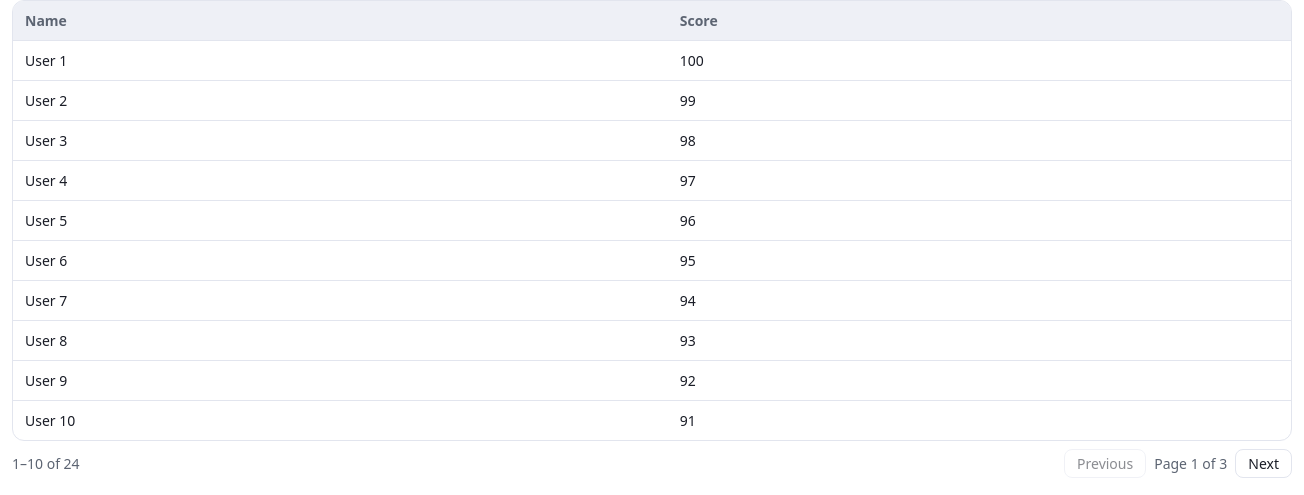
Test: DataGrid › moves between pages
Expected: the button with aria-label "Previous page" is disabled, top-left (1064, 449), bottom-right (1146, 478)
Click the button with aria-label "Next page" at [1264, 464], box top-left (1235, 449), bottom-right (1292, 478)
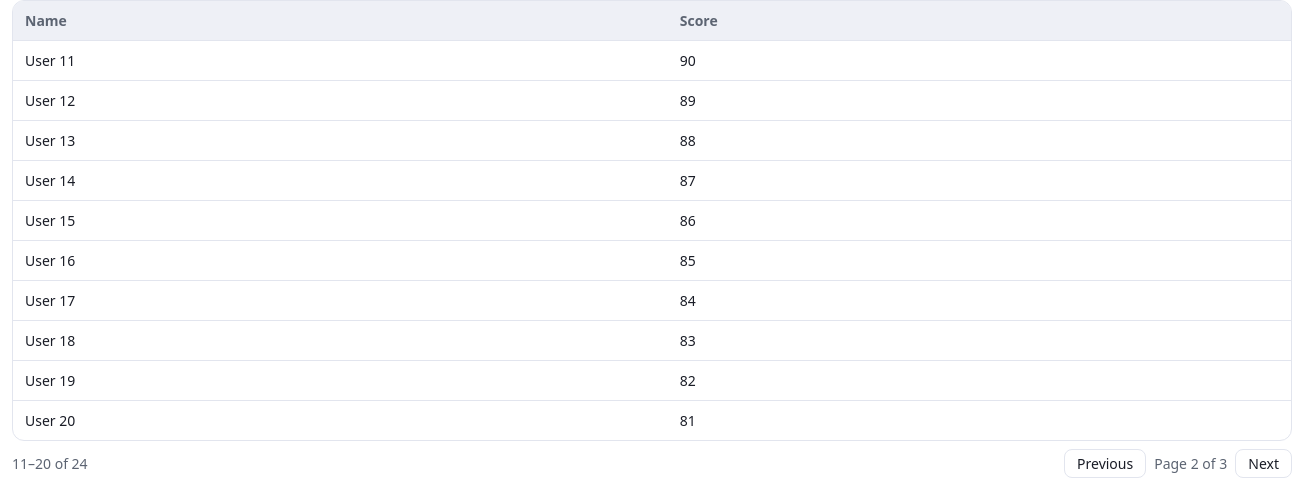
Expected: the text "User 11" is shown, top-left (13, 40), bottom-right (668, 80)
Expected: the text "11–20 of 24" is shown, top-left (12, 454), bottom-right (88, 473)
Expected: the text "Page 2 of 3" is shown, top-left (1154, 454), bottom-right (1227, 473)
